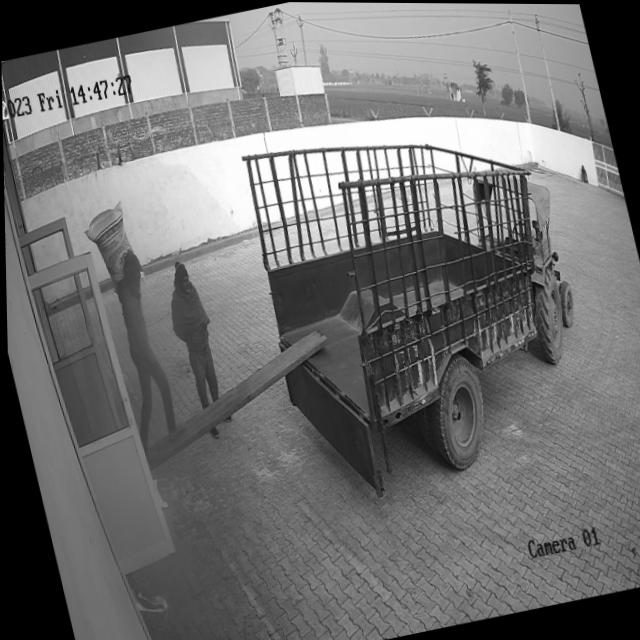sack: (78, 200, 140, 295)
